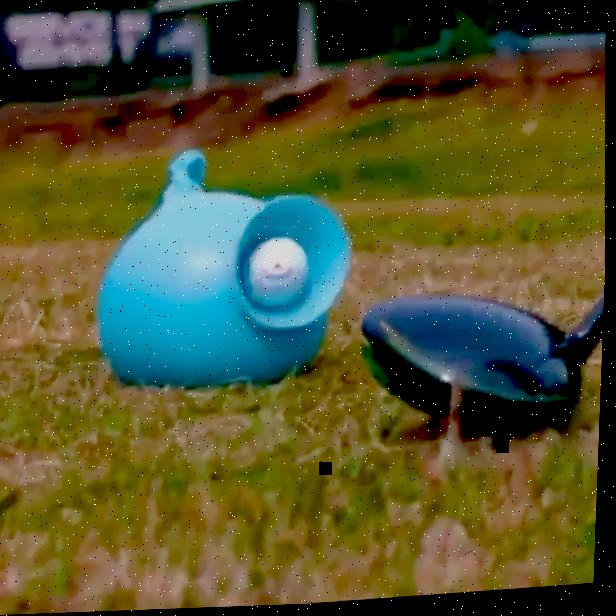ClubHead: (359, 290, 592, 435)
GolfBall: (249, 242, 303, 300)
